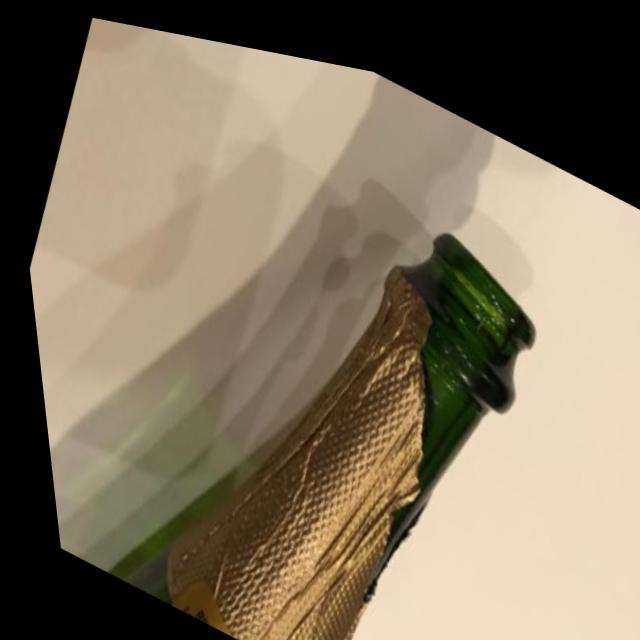glass: (24, 41, 619, 640)
